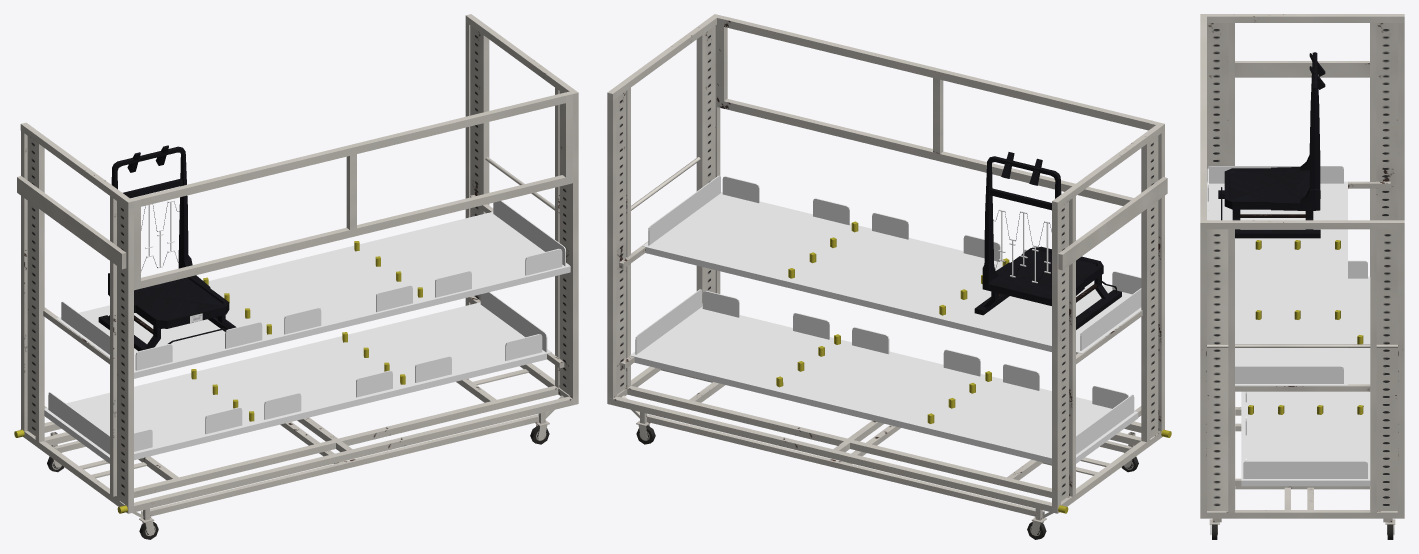
File: yunshu01.FBX
The picture shows the model from 3 angles, left to right: view 1: azimuth 30°, elevation 25°; view 2: azimuth 150°, elevation 25°; view 3: azimuth 270°, elevation 25°; orthographic projection. The views are drawn at different scales.
Parts seen in each view (by area): view 1: YF_Model_yunshu01; view 2: YF_Model_yunshu01; view 3: YF_Model_yunshu01.
Boxes of the visible parts, x1=… form: YF_Model_yunshu01: x1=14, y1=14, x2=578, y2=539; YF_Model_yunshu01: x1=607, y1=14, x2=1171, y2=539; YF_Model_yunshu01: x1=1200, y1=14, x2=1404, y2=539.
Bounding box in the file's own units: 262 × 191 × 107.
